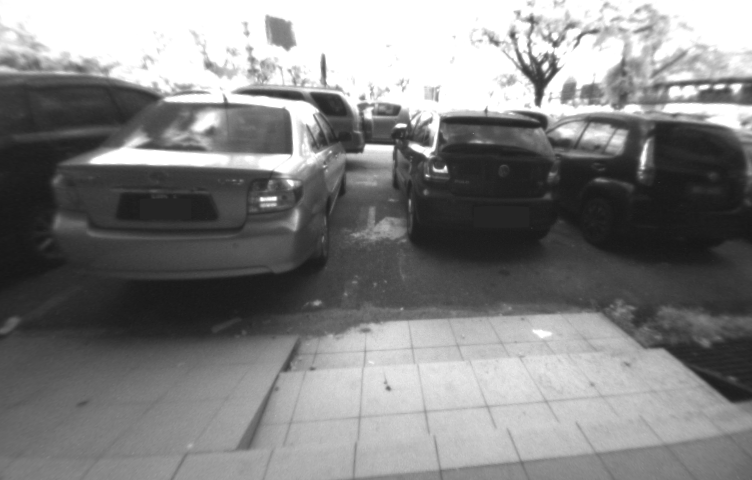down_steps: (250, 308, 733, 461)
mixed_gradient: (186, 322, 336, 472)
uncovered_drainage: (658, 315, 751, 414)
